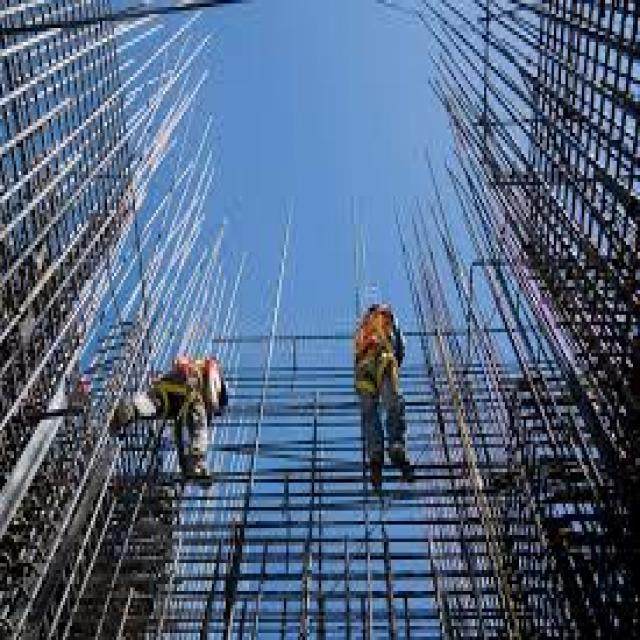Reflective-Jacket: (344, 301, 405, 409)
